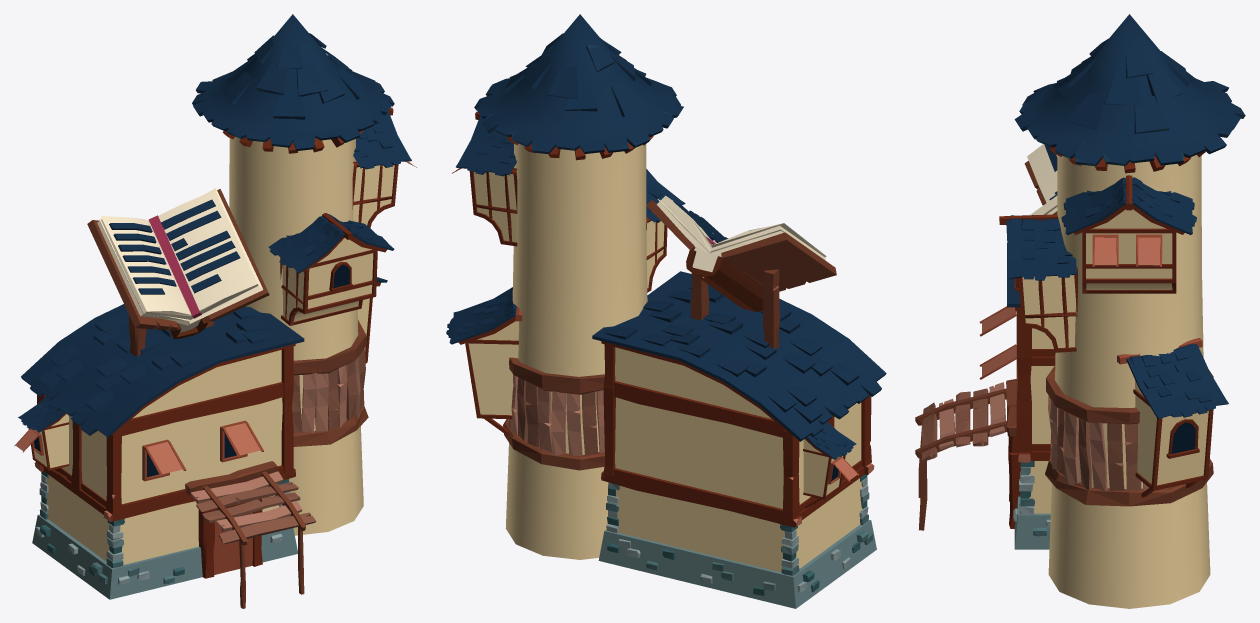
The model's file is SM_Library.fbx.
The picture shows the model from 3 angles, left to right: view 1: azimuth 30°, elevation 25°; view 2: azimuth 150°, elevation 25°; view 3: azimuth 270°, elevation 25°; orthographic projection. The views are drawn at different scales.
Parts seen in each view (by area): view 1: Cube.019; view 2: Cube.019; view 3: Cube.019.
Part boxes in pixels (x1,y1,x2,y2): Cube.019: (14, 14, 416, 608); Cube.019: (446, 14, 886, 608); Cube.019: (915, 14, 1245, 608).
Bounding box in the file's own units: 531 × 662 × 353.
